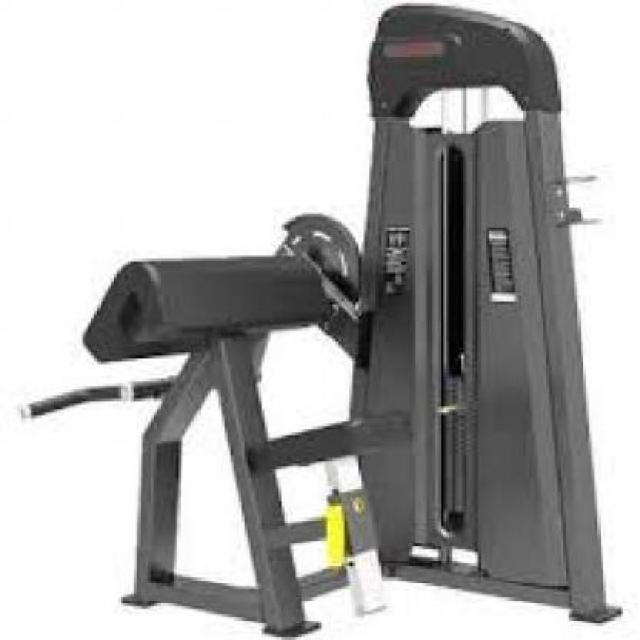arm curl machine: (19, 3, 626, 637)
